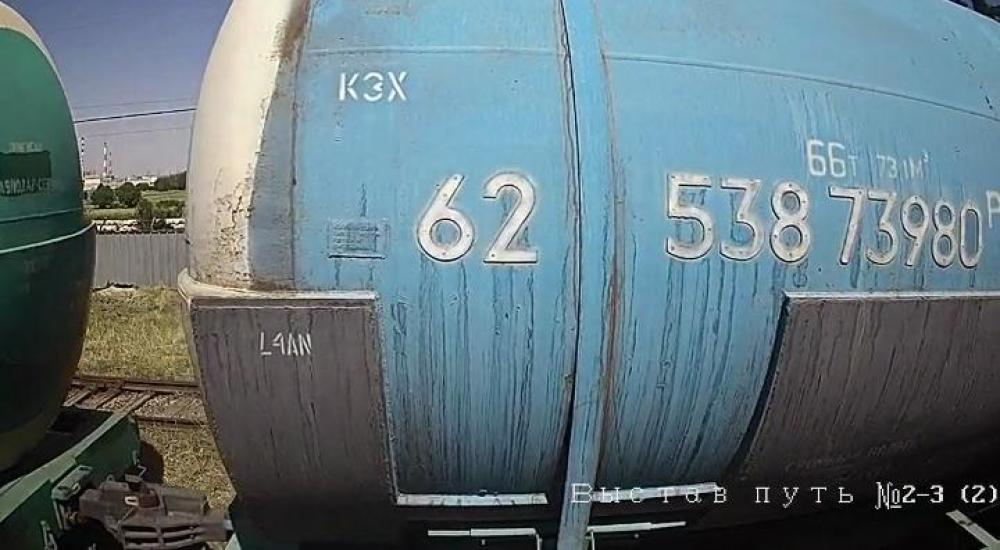Wagon-number: (662, 168, 988, 284)
